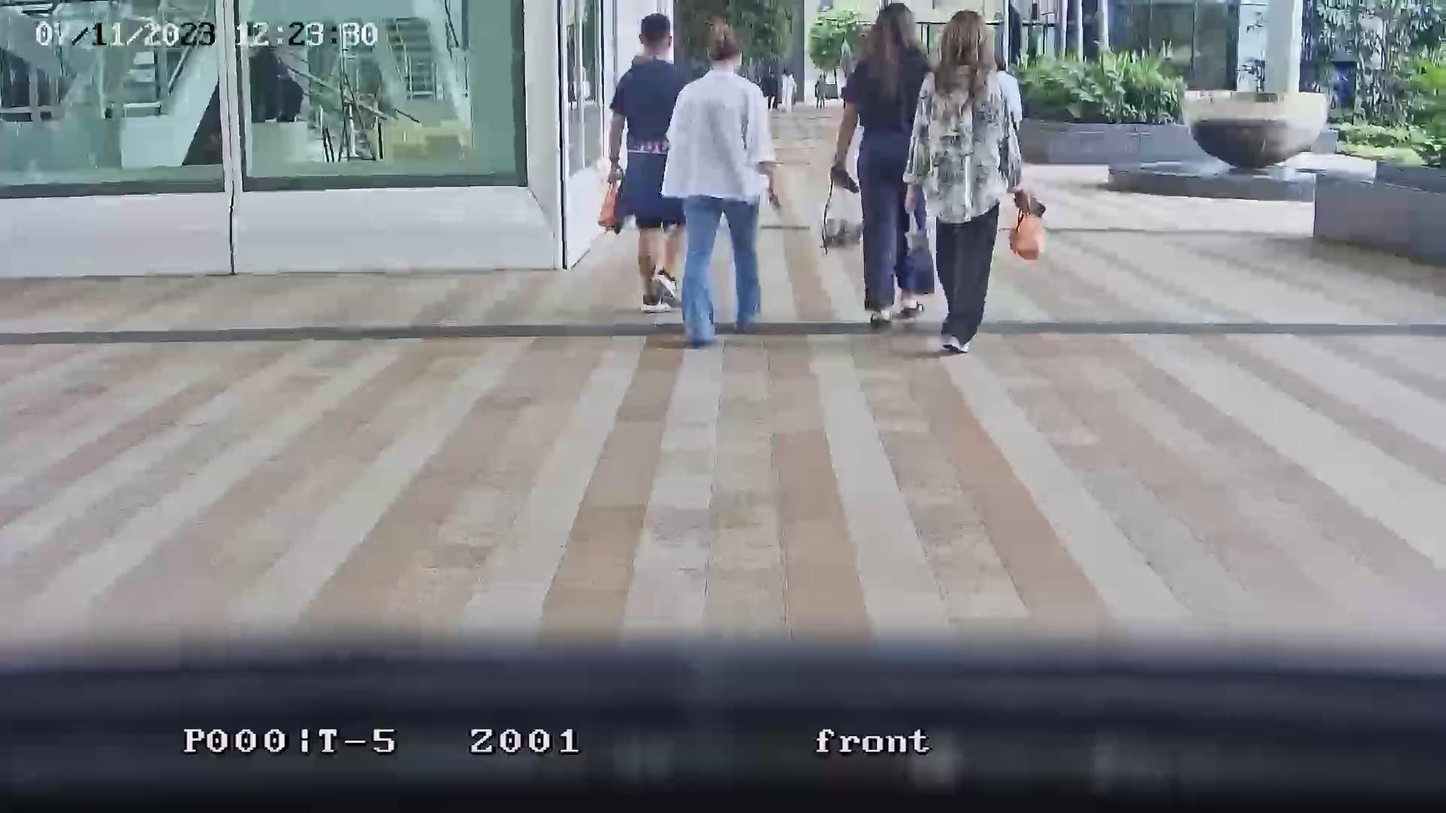person: (905, 9, 1034, 356), (661, 25, 782, 349), (830, 2, 931, 327), (604, 12, 691, 316), (757, 55, 781, 110), (815, 67, 834, 110), (780, 67, 797, 109)
